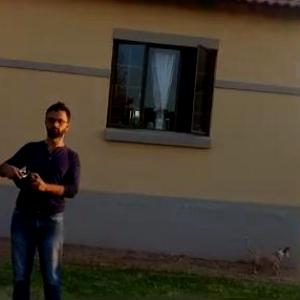follow: (0, 94, 90, 299)
null: (238, 233, 293, 275)
